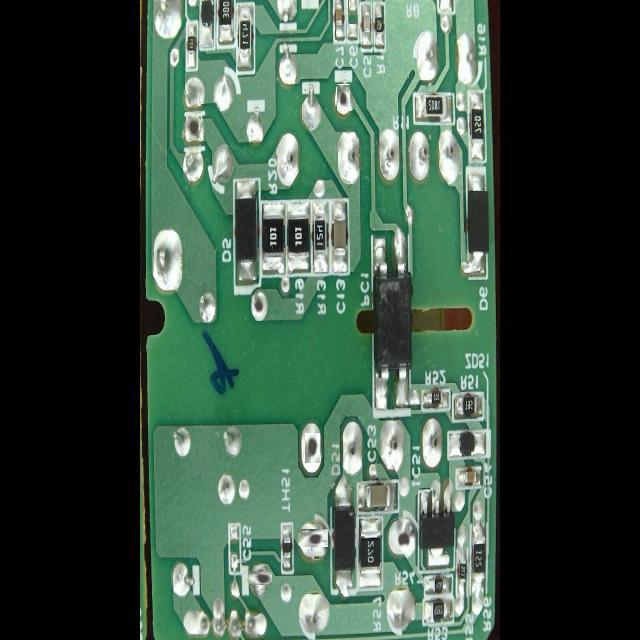damged: (393, 524, 414, 554), (303, 526, 326, 550), (305, 433, 320, 463), (186, 112, 201, 140), (250, 568, 270, 588), (336, 84, 350, 111), (252, 292, 266, 318)
